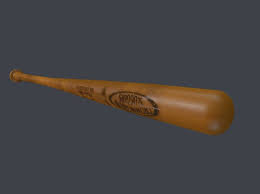baseball bat: (8, 64, 234, 138)
